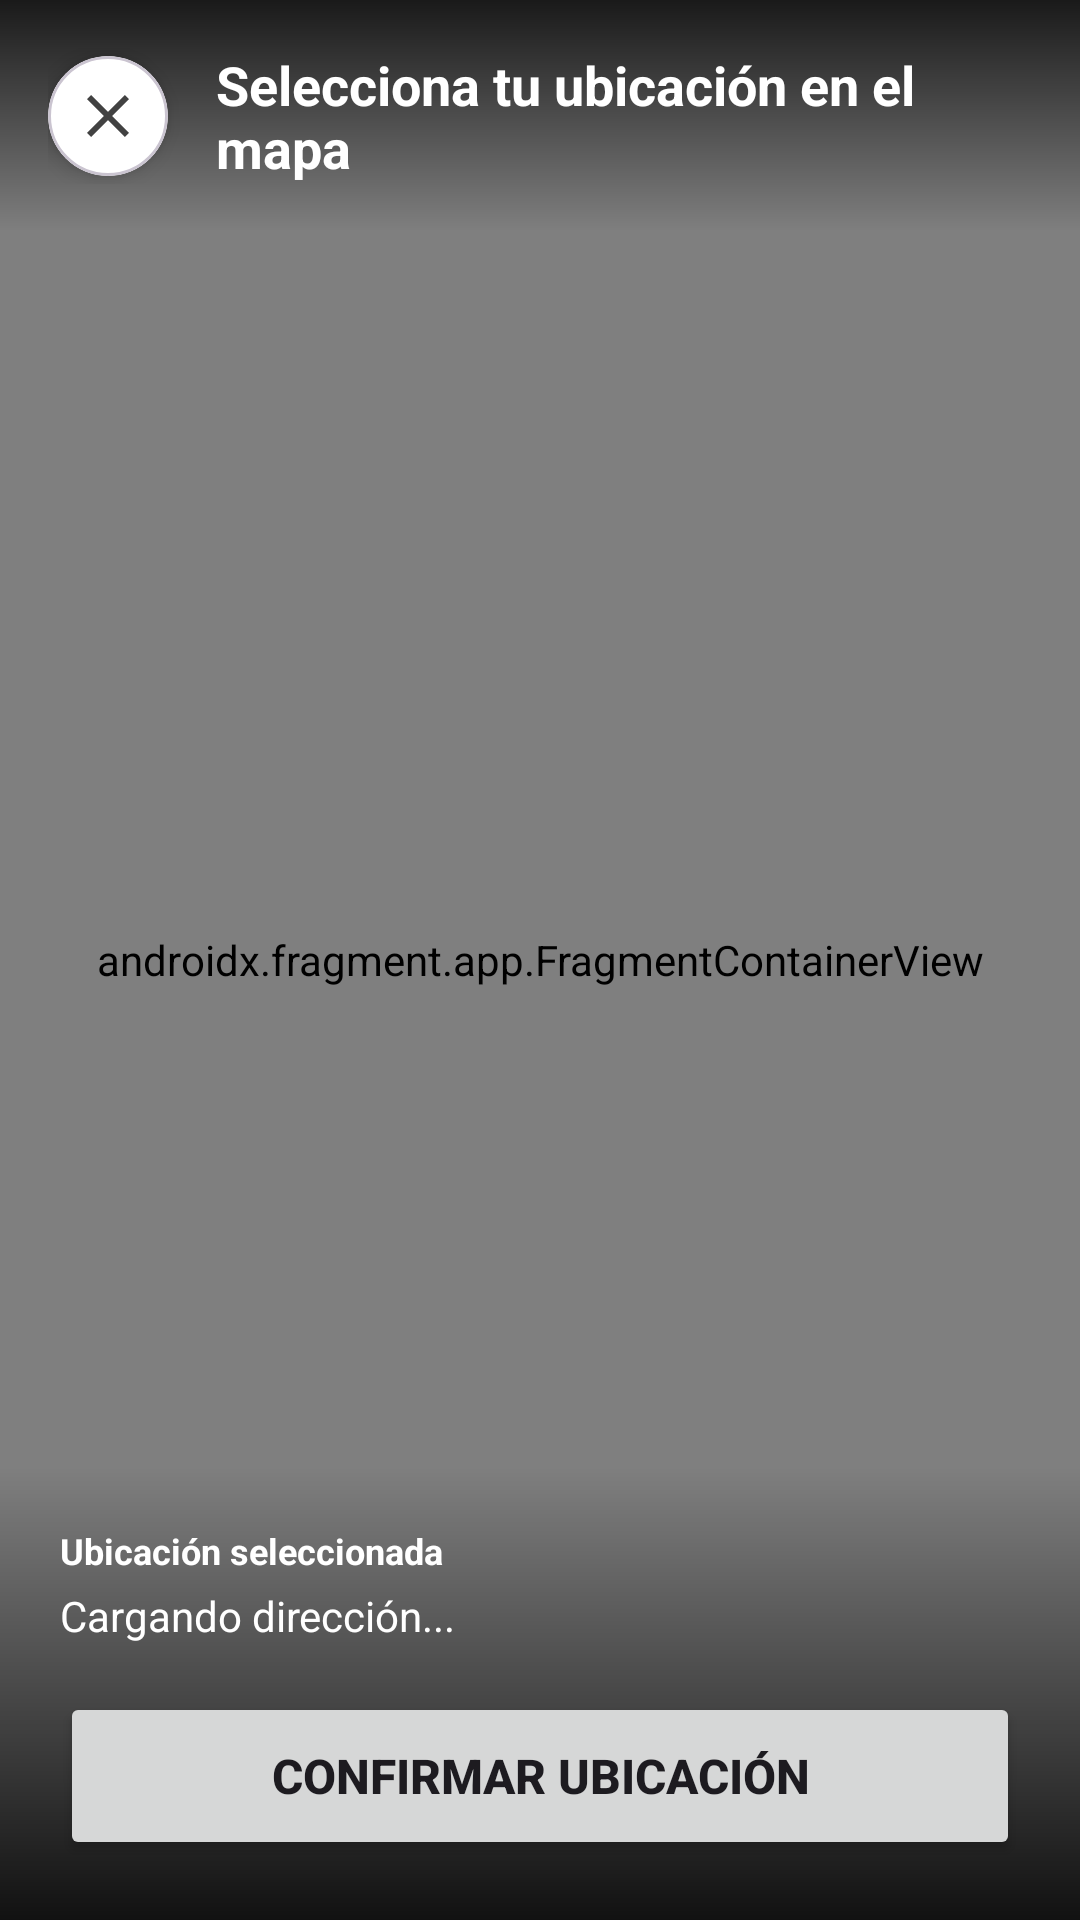

Where to tap for icons on this 1080px x 1920px app screen, as point (x, y):
Cerrar: point (108, 116)
